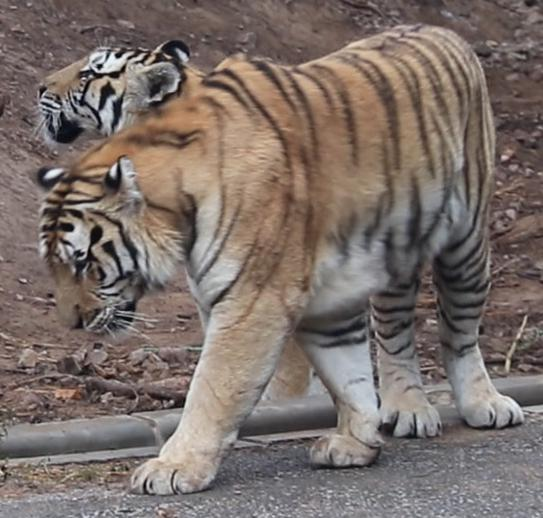tiger: (37, 25, 522, 493)
